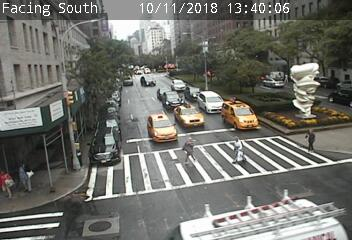car: (88, 127, 120, 165), (222, 100, 260, 131), (148, 114, 176, 143), (174, 104, 204, 130), (198, 91, 225, 114), (162, 91, 184, 110), (184, 86, 207, 103), (171, 79, 187, 93), (157, 87, 174, 100), (263, 78, 284, 88), (141, 75, 156, 86)
